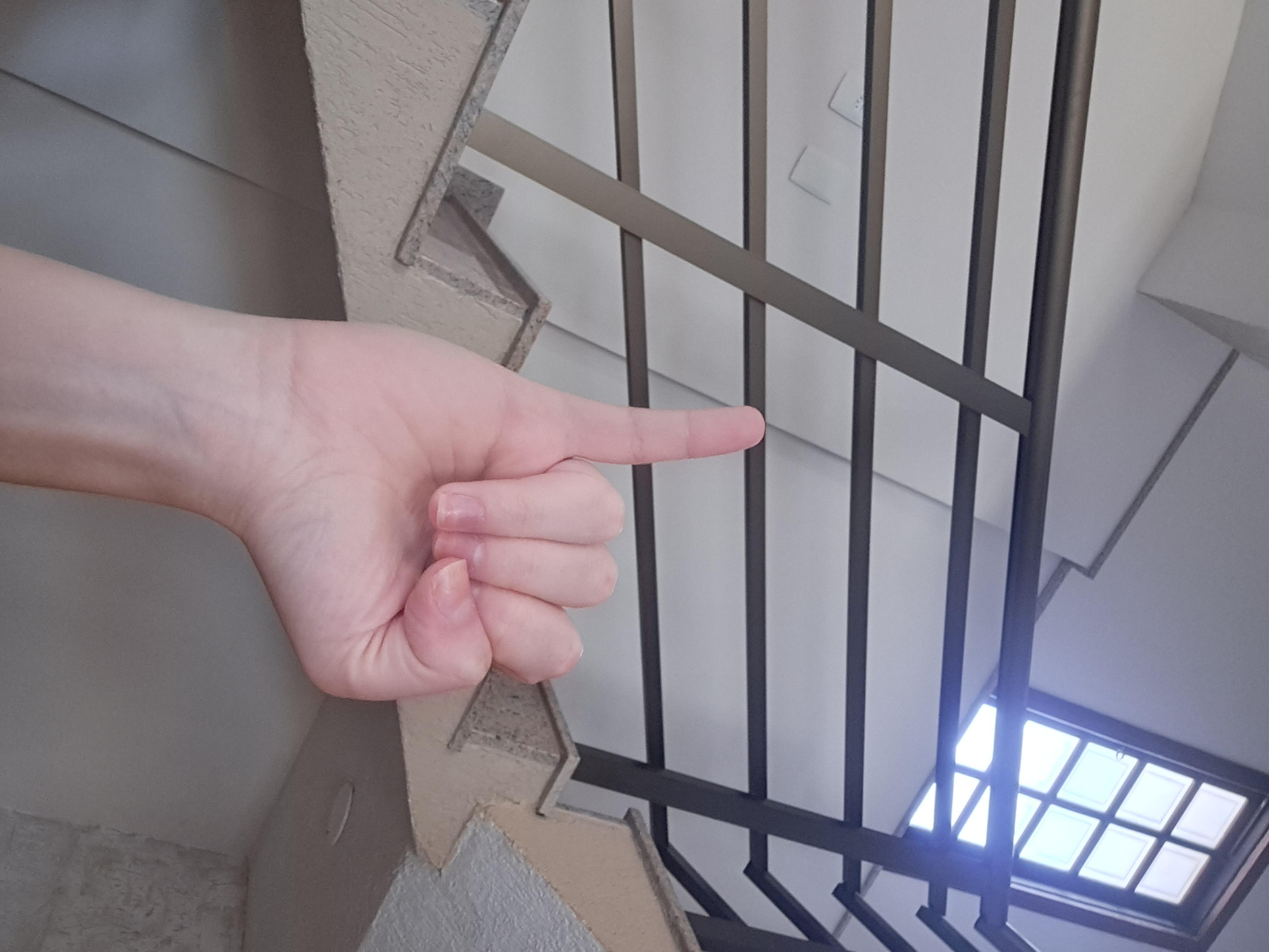I: (389, 376, 954, 822)
